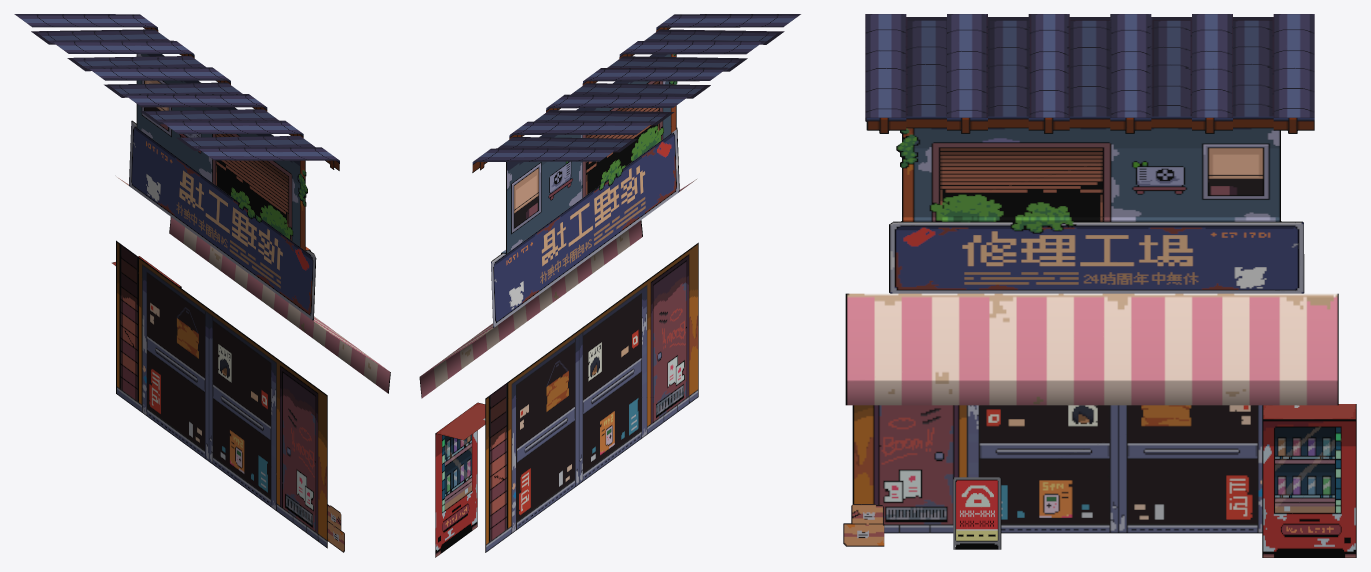
The model's file is RepairShop.fbx.
The picture shows the model from 3 angles, left to right: view 1: azimuth 30°, elevation 25°; view 2: azimuth 150°, elevation 25°; view 3: azimuth 270°, elevation 25°; orthographic projection. The views are drawn at different scales.
Visible parts, largest first — view 1: ElectronicShop; view 2: ElectronicShop; view 3: ElectronicShop.
Part boxes in pixels (bbox=[...]): ElectronicShop: bbox=[14, 14, 390, 552]; ElectronicShop: bbox=[419, 14, 800, 557]; ElectronicShop: bbox=[843, 14, 1356, 557].
Bounding box in the file's own units: 65.04 × 152 × 156.
1 material, 1 textured.
